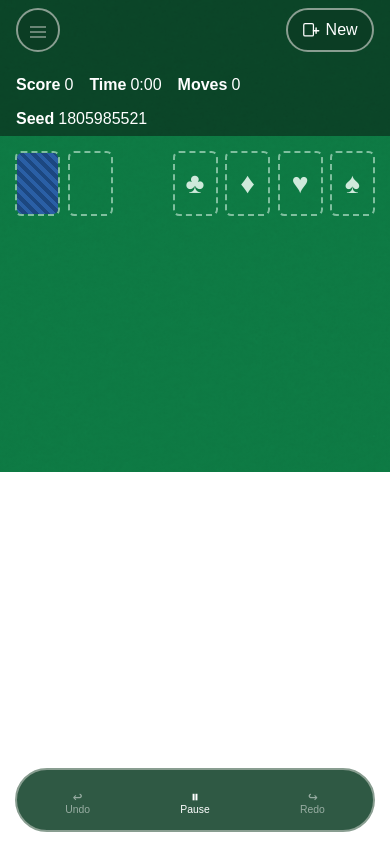
Test: GameView modal integration › opens Seed via MobileSidebarMenu.vue, independent of the PC panel
Step 1. Click the button named "メニューを開く" → (38, 32), box x1=18 y1=10 x2=58 y2=54
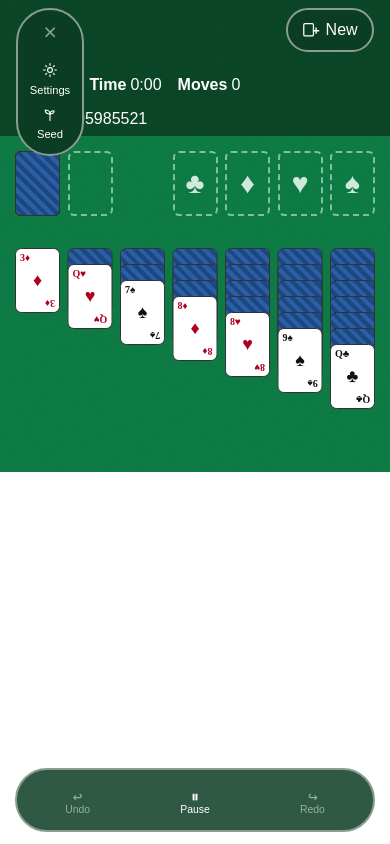
Step 2. Click the button with aria-label "Seed" → (50, 120), box x1=18 y1=98 x2=82 y2=142
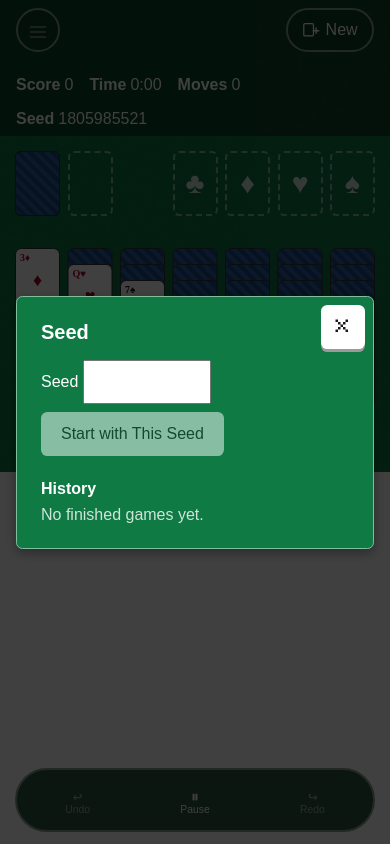
Expected: the dialog named "Seed" is shown
